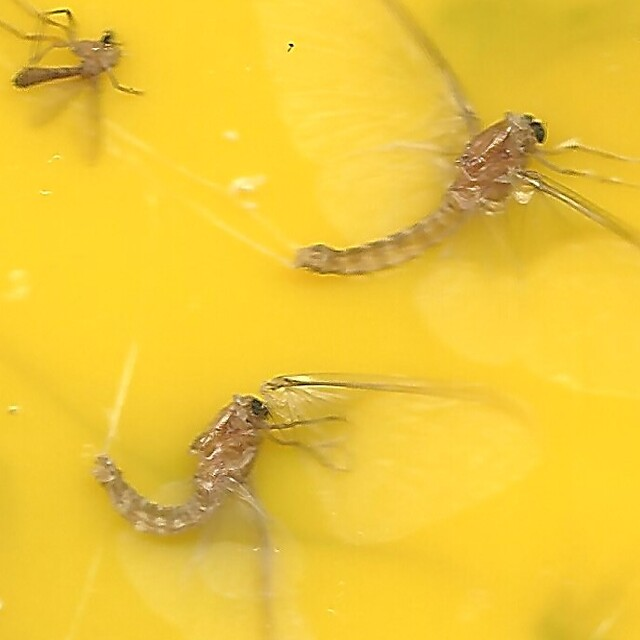Ephemeroptera: (291, 104, 547, 278), (93, 385, 270, 536)
